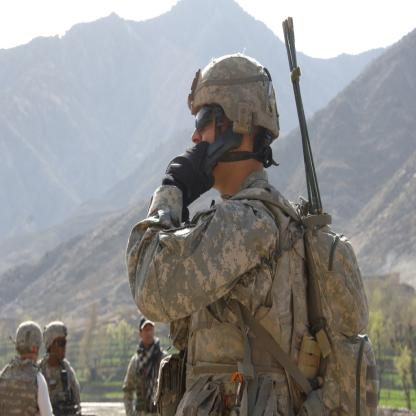Helmet: (186, 55, 285, 177), (15, 319, 44, 355), (42, 322, 69, 358)
